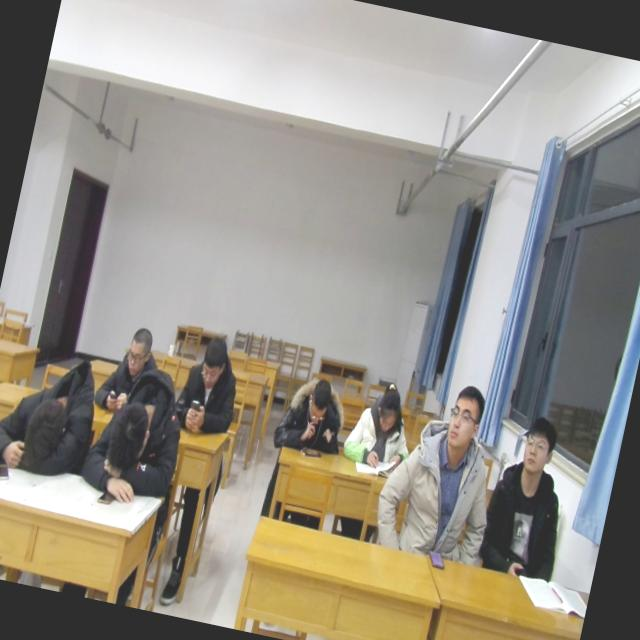bow: (76, 368, 194, 514), (0, 343, 110, 485)
down: (372, 374, 412, 436), (195, 328, 233, 392), (121, 322, 159, 380), (299, 374, 336, 433)
lookup: (441, 382, 492, 458), (514, 410, 564, 480)
sit: (372, 372, 514, 566), (473, 407, 586, 577), (173, 316, 252, 440), (270, 357, 358, 463), (340, 373, 421, 469), (98, 318, 168, 408)
